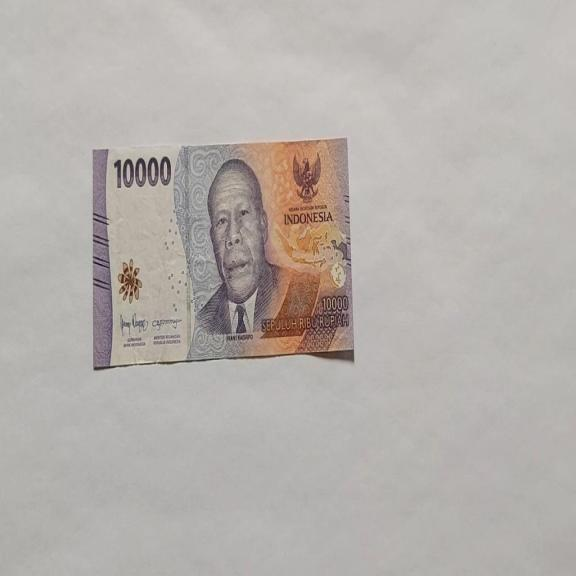Kertas: (92, 137, 354, 369), (112, 154, 172, 190)
